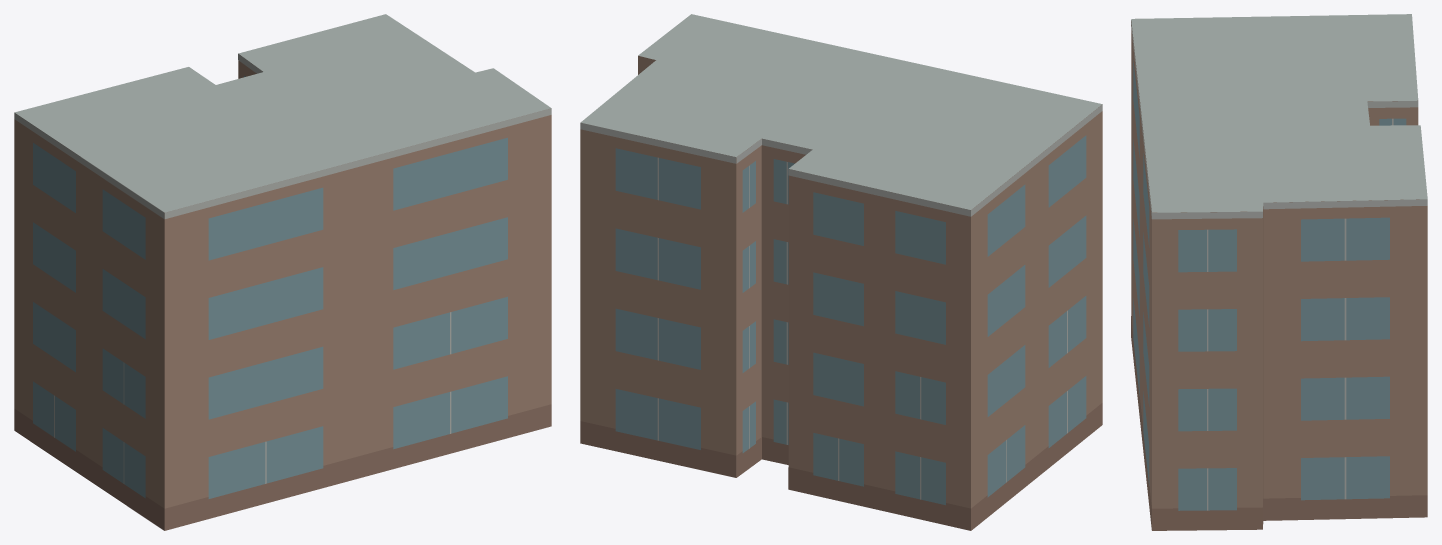
Rendered from survey-upis-33040488.glb.
3 views of the same model, side by side, from view 1: azimuth 30°, elevation 25°; view 2: azimuth 150°, elevation 25°; view 3: azimuth 270°, elevation 25° (orthographic).
Visible parts, largest first — view 1: survey-upis-33040488.tmp; view 2: survey-upis-33040488.tmp; view 3: survey-upis-33040488.tmp.
Part boxes in pixels (bbox=[...]): survey-upis-33040488.tmp: bbox=[14, 14, 551, 530]; survey-upis-33040488.tmp: bbox=[580, 14, 1102, 530]; survey-upis-33040488.tmp: bbox=[1131, 14, 1427, 530].
Bounding box in the file's own units: 15.75 × 11.75 × 9.94.
